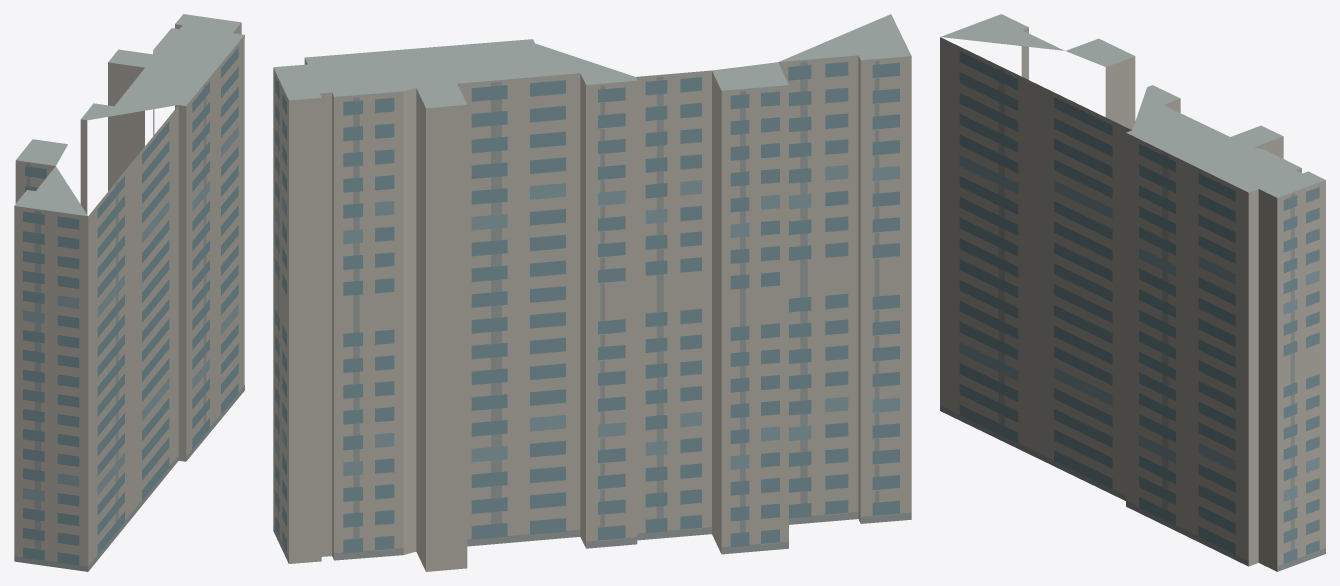
The model's file is residential-e768ec02-1f48-4749-8962-6e9bf160dba9.glb.
3 renders of one model, left to right at view 1: azimuth 30°, elevation 25°; view 2: azimuth 150°, elevation 25°; view 3: azimuth 270°, elevation 25°, orthographic. The views are drawn at different scales.
Parts seen in each view (by area): view 1: residential-e768ec02-1f48-4749-8962-6e9bf160dba9.tmp; view 2: residential-e768ec02-1f48-4749-8962-6e9bf160dba9.tmp; view 3: residential-e768ec02-1f48-4749-8962-6e9bf160dba9.tmp.
Part boxes in pixels (<box>): residential-e768ec02-1f48-4749-8962-6e9bf160dba9.tmp: <box>14,14,244,571</box>; residential-e768ec02-1f48-4749-8962-6e9bf160dba9.tmp: <box>273,14,911,571</box>; residential-e768ec02-1f48-4749-8962-6e9bf160dba9.tmp: <box>940,14,1325,571</box>.
Size of the model in its own units: 56.98 by 54 by 50.48.
